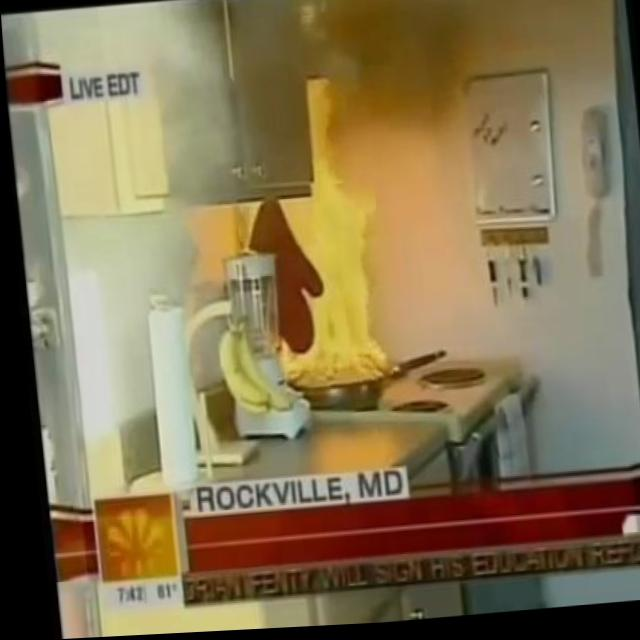fire: (231, 77, 391, 397)
